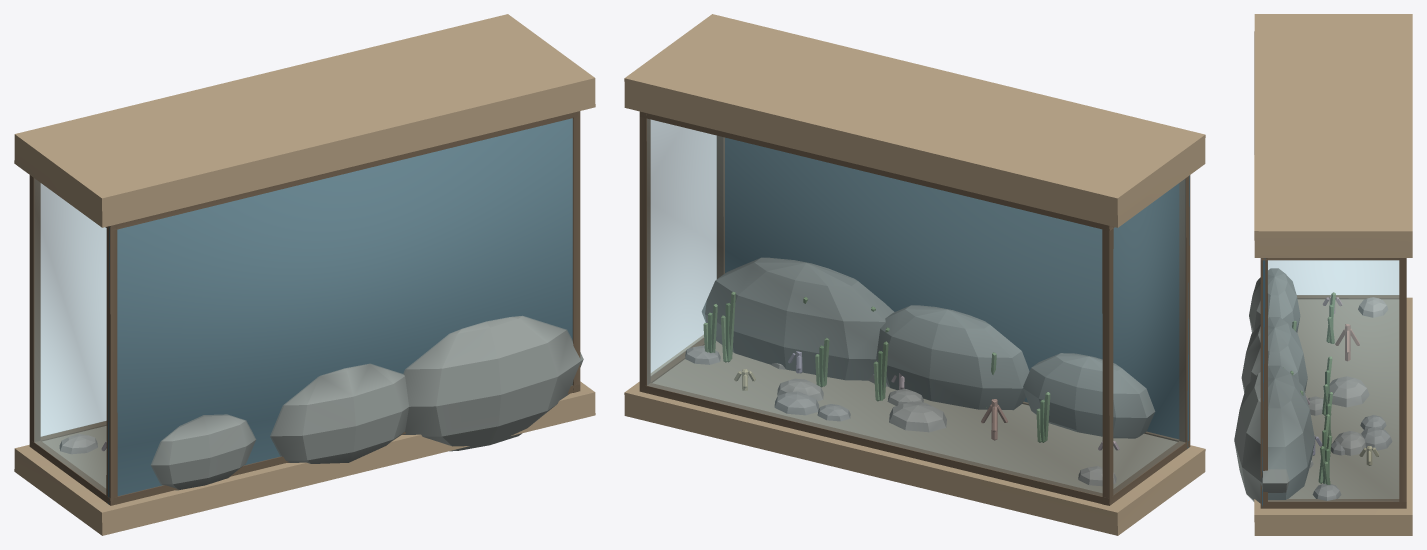
File: furn_aquarium_wall__oak_low.glb
3 views of the same model, side by side, from view 1: azimuth 30°, elevation 25°; view 2: azimuth 150°, elevation 25°; view 3: azimuth 270°, elevation 25° (orthographic). The views are drawn at different scales.
Size of the model in its own units: 4.19 by 2.85 by 1.46.
